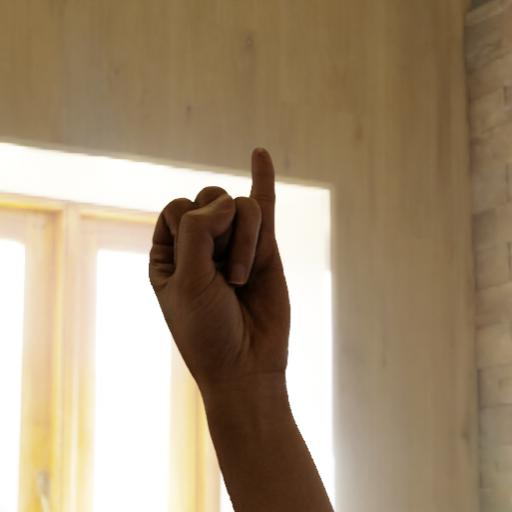I: (116, 137, 343, 512)
